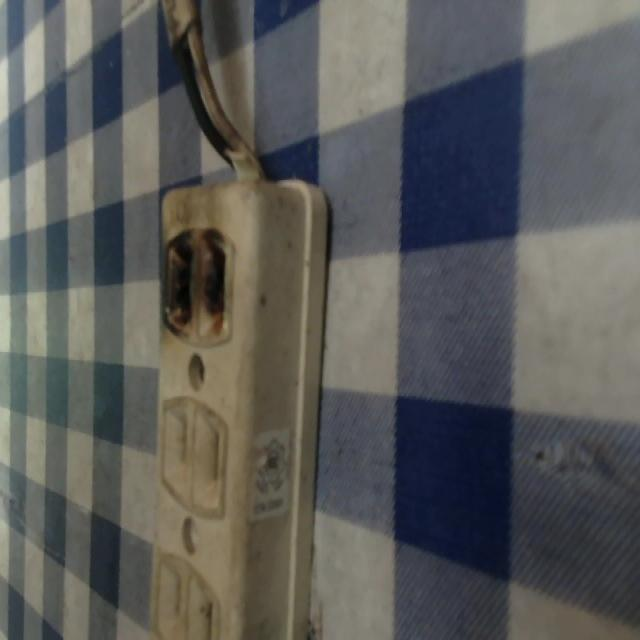-: (155, 215, 245, 352)
